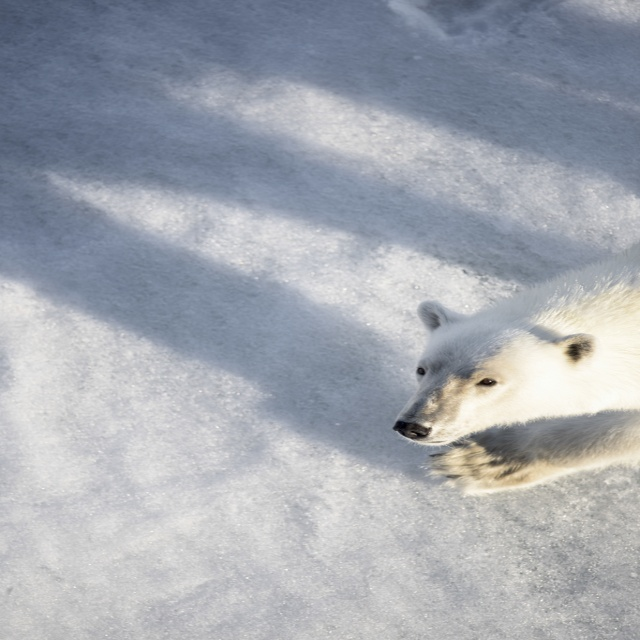Polar bear: (392, 244, 639, 497)
